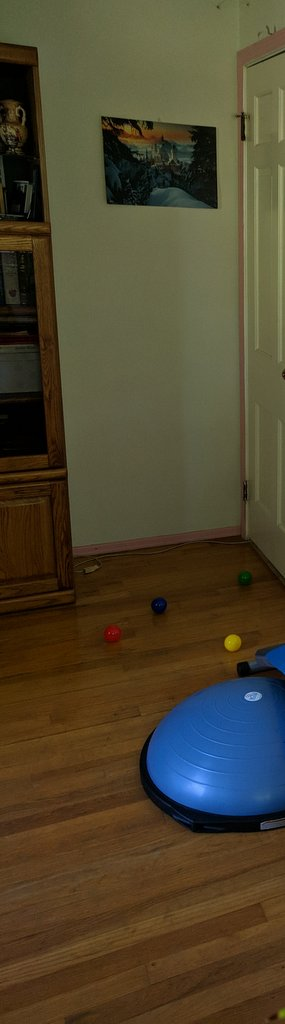ball: (224, 633, 242, 652)
